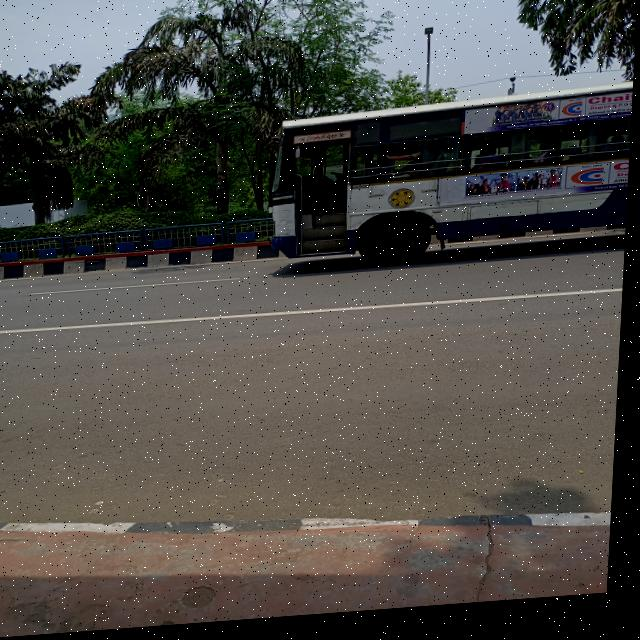bus: (254, 88, 635, 275)
